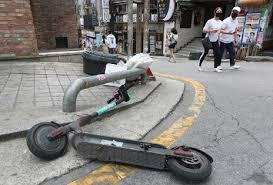fallin_kick: (27, 76, 212, 181)
